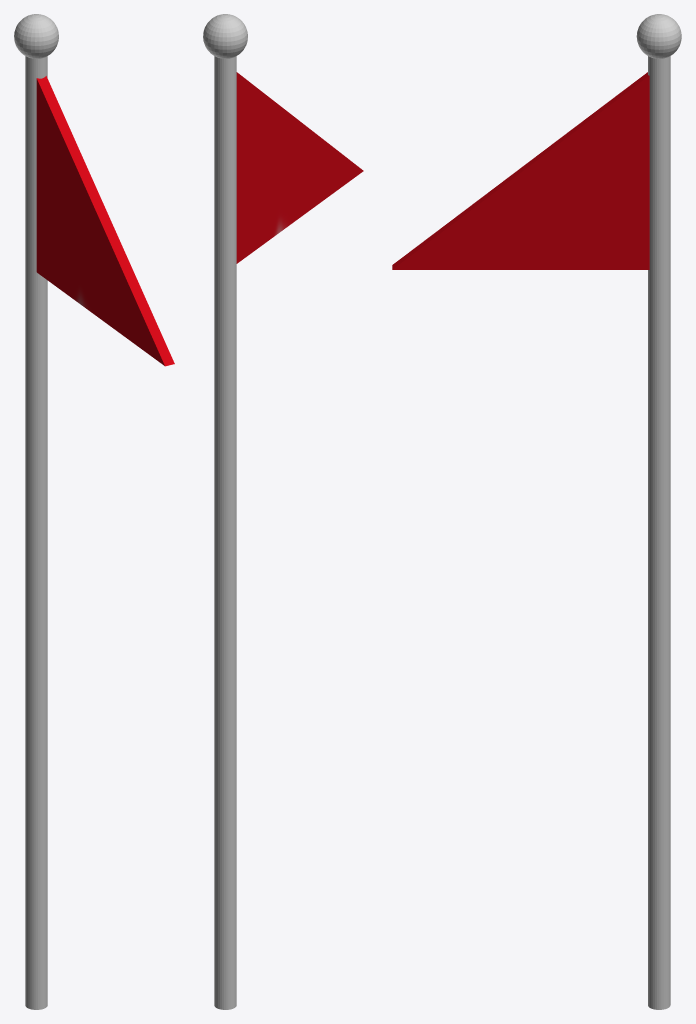
The model's file is flag.obj.
The picture shows the model from 3 angles, left to right: view 1: azimuth 30°, elevation 25°; view 2: azimuth 150°, elevation 25°; view 3: azimuth 270°, elevation 25°; orthographic projection.
Parts seen in each view (by area): view 1: Cylinder_Cylinder.001; view 2: Cylinder_Cylinder.001; view 3: Cylinder_Cylinder.001.
Part boxes in pixels (box(x1,y1,x2,y2)): Cylinder_Cylinder.001: box(14, 14, 174, 1009); Cylinder_Cylinder.001: box(203, 14, 363, 1009); Cylinder_Cylinder.001: box(392, 14, 681, 1009).
Bounding box in the file's own units: 0.4 × 9.68 × 2.57.
